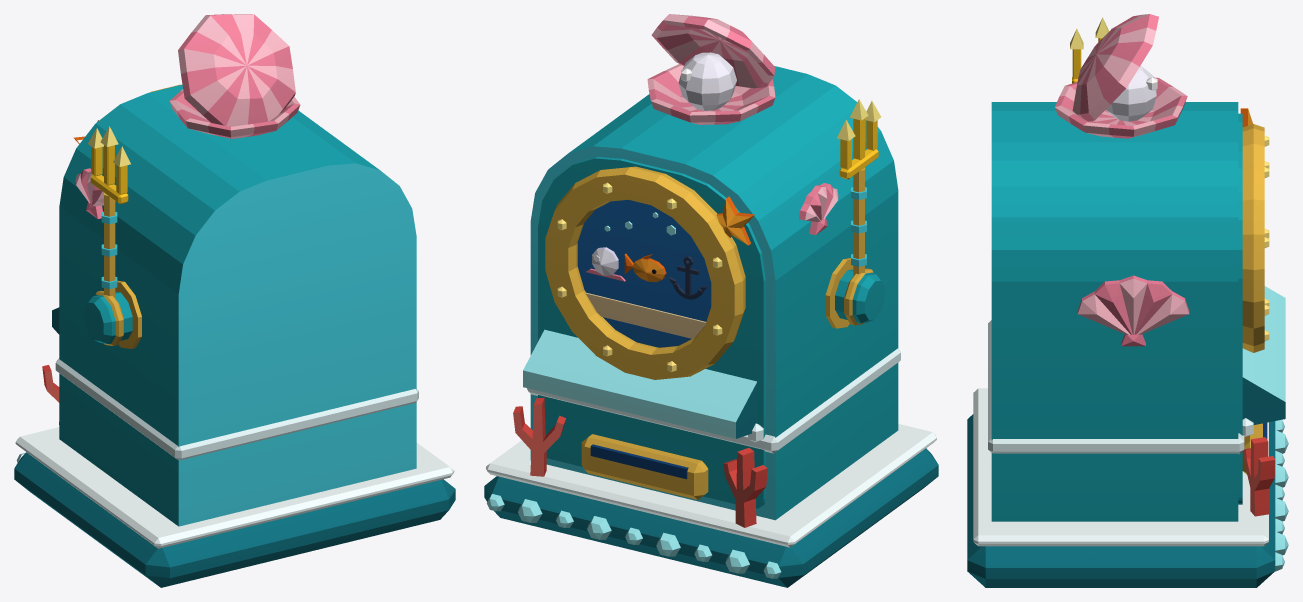
Rendered from OceanTreasureMachine.glb.
3 renders of one model, left to right at view 1: azimuth 30°, elevation 25°; view 2: azimuth 150°, elevation 25°; view 3: azimuth 270°, elevation 25°, orthographic. The views are drawn at different scales.
Parts seen in each view (by area): view 1: Cabinet, Base, Topper, Lever; view 2: Cabinet, Base, Screen, Topper, Lever; view 3: Cabinet, Base, Topper, Lever.
Boxes of the visible parts, x1,y1,x2,y2 form: Cabinet: [42, 84, 418, 526]; Base: [14, 427, 455, 587]; Topper: [169, 14, 300, 138]; Lever: [84, 126, 132, 345]; Cabinet: [513, 66, 900, 527]; Base: [484, 424, 938, 587]; Screen: [577, 199, 711, 347]; Topper: [647, 14, 775, 124]; Lever: [835, 99, 884, 325]; Cabinet: [988, 102, 1285, 521]; Base: [967, 388, 1288, 587]; Topper: [1055, 14, 1187, 138]; Lever: [1070, 17, 1109, 83].
Bounding box in the file's own units: 6 × 8.92 × 5.22.
1 material, 1 textured.
